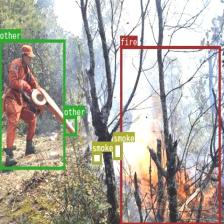fire: (120, 45, 220, 224)
smoke: (112, 142, 122, 159), (92, 151, 102, 164)
